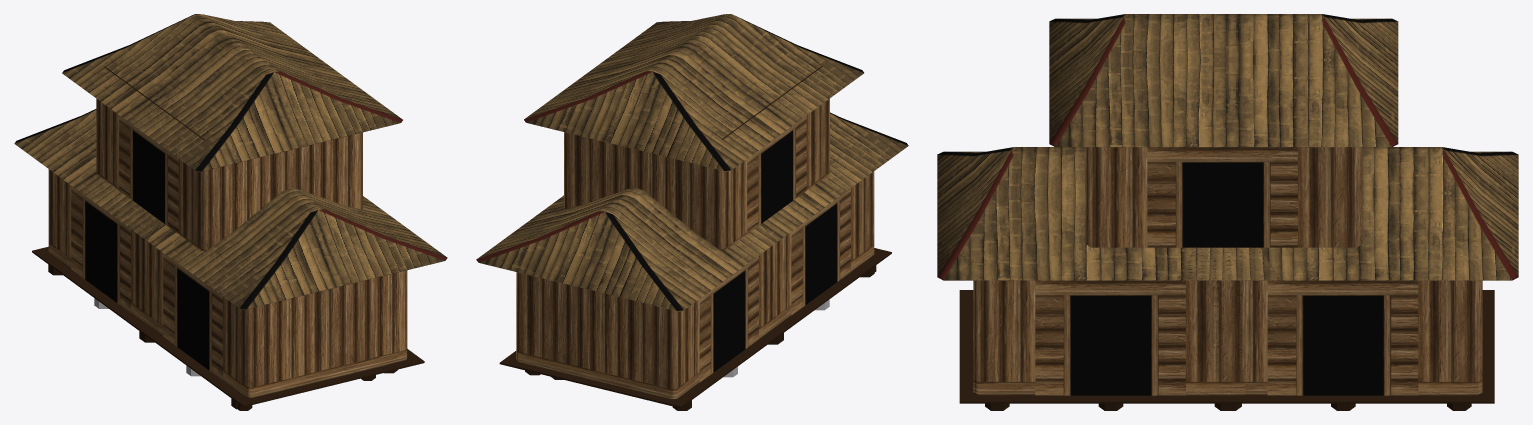
The model's file is small_house.fbx.
3 views of the same model, side by side, from view 1: azimuth 30°, elevation 25°; view 2: azimuth 150°, elevation 25°; view 3: azimuth 270°, elevation 25° (orthographic). The views are drawn at different scales.
Parts seen in each view (by area): view 1: small_house; view 2: small_house; view 3: small_house.
Part boxes in pixels (bbox=[...]): small_house: bbox=[14, 14, 447, 410]; small_house: bbox=[476, 14, 908, 410]; small_house: bbox=[937, 14, 1518, 410].
Bounding box in the file's own units: 3.11 × 3.95 × 5.96.
